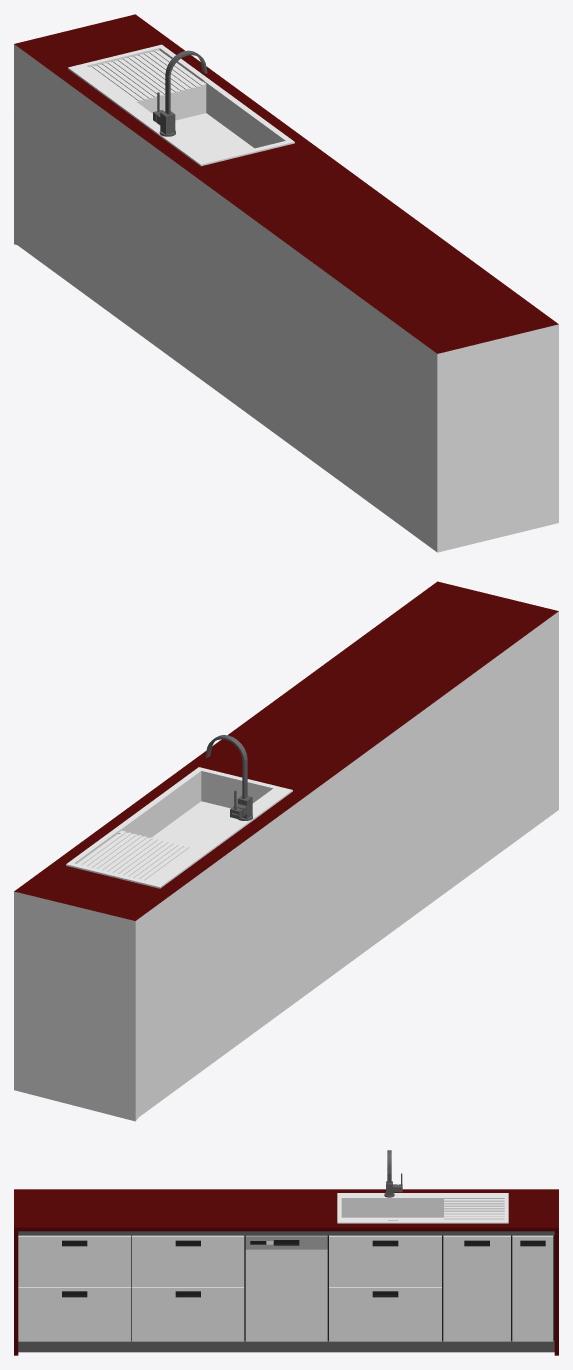
File: kitchen stand with sink.fbx
3 renders of one model, top to bottom at view 1: azimuth 30°, elevation 25°; view 2: azimuth 150°, elevation 25°; view 3: azimuth 270°, elevation 25°, orthographic. The views are drawn at different scales.
Parts seen in each view (by area): view 1: Model, Componente_2_1, QUADRO1; view 2: Model, Componente_2_1, QUADRO1; view 3: Model, Componente_2_1, QUADRO1.
Part boxes in pixels (box(x1,y1,x2,y2)): Model: box(14, 14, 558, 552); Componente_2_1: box(68, 44, 294, 166); QUADRO1: box(153, 50, 207, 136); Model: box(14, 581, 558, 1121); Componente_2_1: box(66, 767, 292, 888); QUADRO1: box(205, 735, 252, 820); Model: box(14, 1189, 558, 1355); Componente_2_1: box(337, 1193, 508, 1223); QUADRO1: box(384, 1150, 402, 1197).
Bounding box in the file's own units: 640 × 1402 × 3863.
